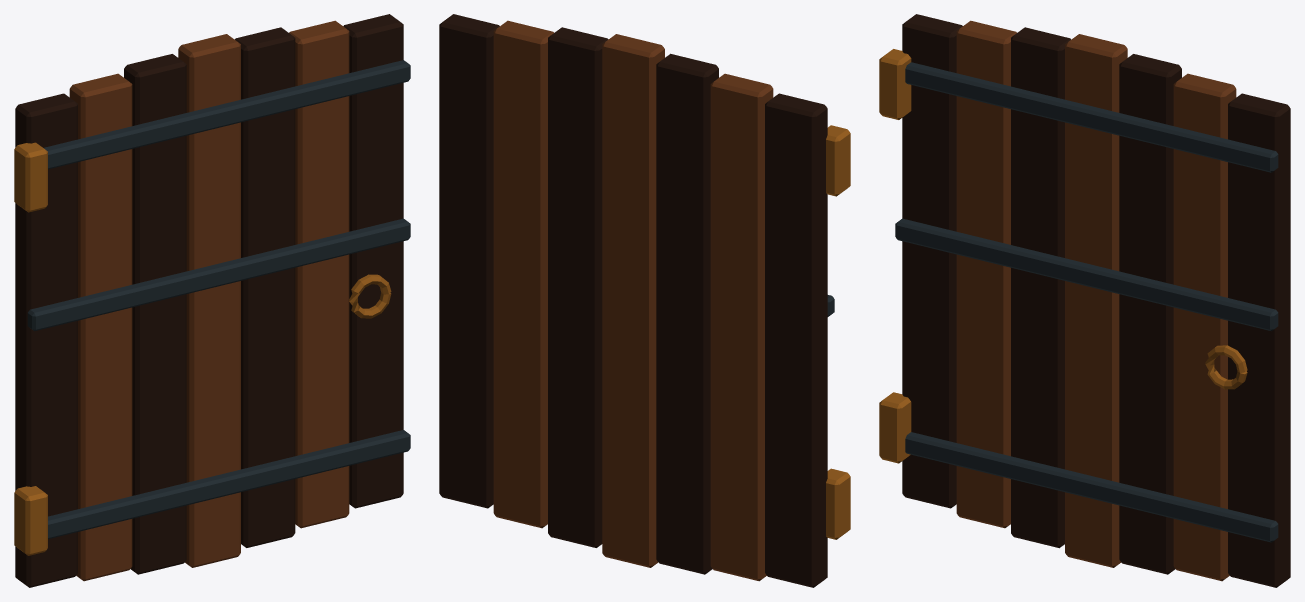
File: Folha_portao_LOD0.fbx
3 renders of one model, left to right at view 1: azimuth 30°, elevation 25°; view 2: azimuth 150°, elevation 25°; view 3: azimuth 330°, elevation 25°, orthographic.
Visible parts, largest first — view 1: Folha_portao_LOD0; view 2: Folha_portao_LOD0; view 3: Folha_portao_LOD0.
Boxes of the visible parts, x1,y1,x2,y2 form: Folha_portao_LOD0: [14, 14, 410, 587]; Folha_portao_LOD0: [439, 14, 850, 587]; Folha_portao_LOD0: [879, 14, 1290, 587].
Size of the model in its own units: 309 by 390 by 35.
1 material, 1 textured.
